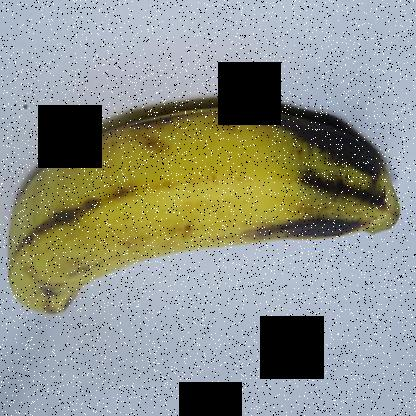ripe: (0, 85, 413, 347)
